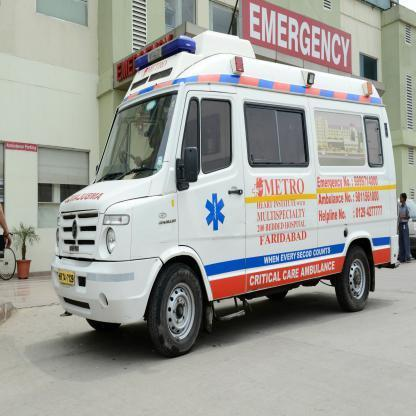Ambulance: (200, 194, 230, 232)
